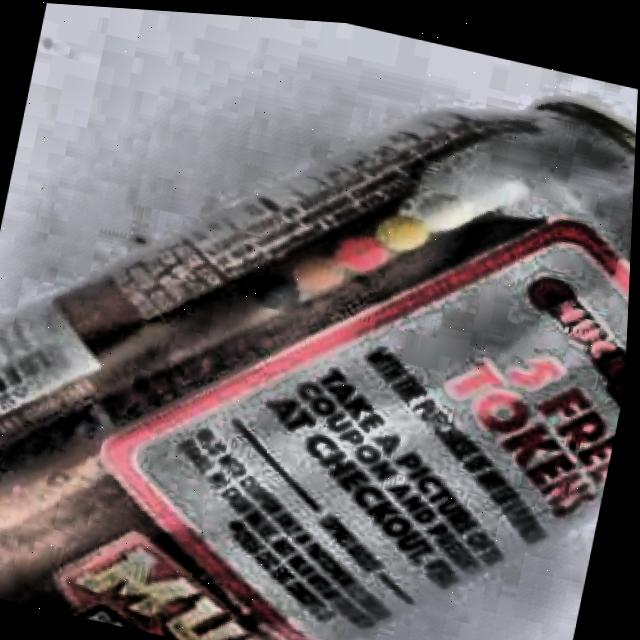metal: (0, 86, 637, 640)
